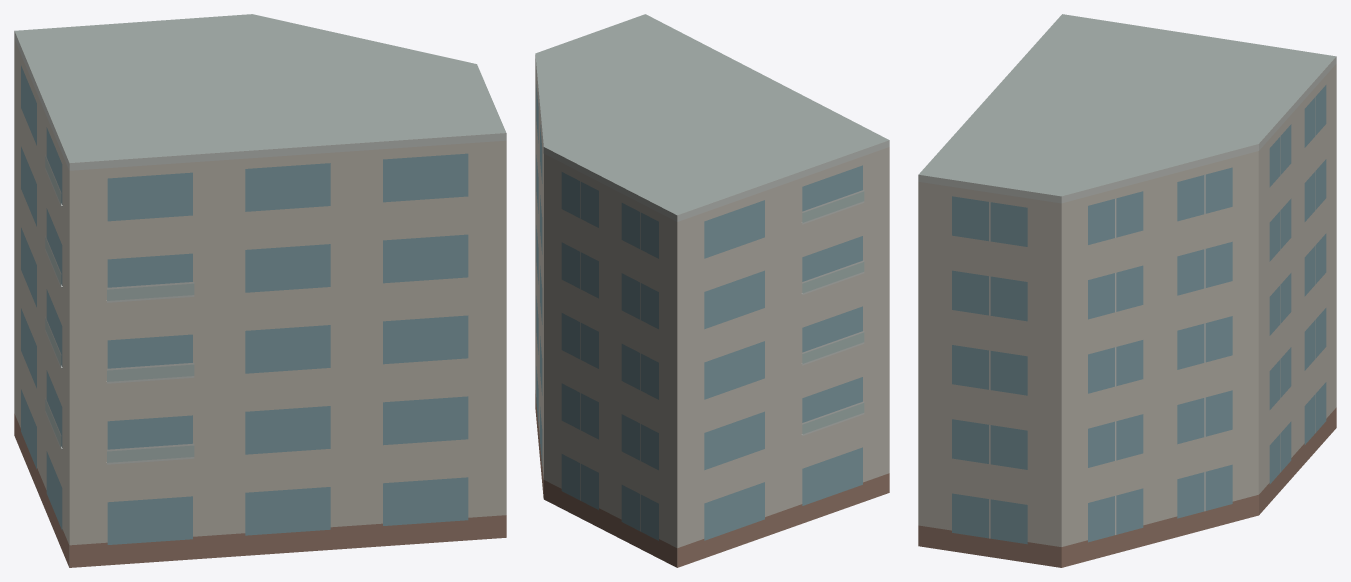
The model's file is survey-upis-33020958.glb.
3 views of the same model, side by side, from view 1: azimuth 30°, elevation 25°; view 2: azimuth 150°, elevation 25°; view 3: azimuth 270°, elevation 25° (orthographic). The views are drawn at different scales.
Parts seen in each view (by area): view 1: survey-upis-33020958.tmp; view 2: survey-upis-33020958.tmp; view 3: survey-upis-33020958.tmp.
Boxes of the visible parts, box(x1,y1,x2,y2) form: survey-upis-33020958.tmp: box(14, 14, 506, 567); survey-upis-33020958.tmp: box(535, 14, 889, 567); survey-upis-33020958.tmp: box(918, 14, 1336, 567).
Size of the model in its own units: 13.59 by 12.9 by 13.17.
